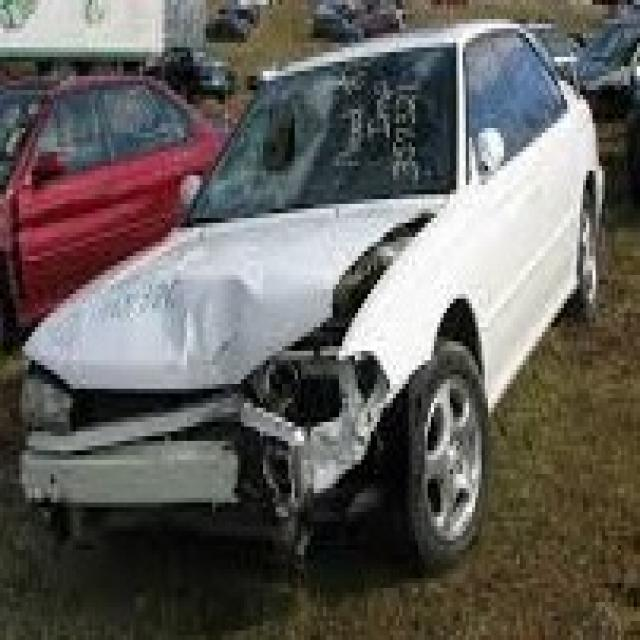moderate: (45, 228, 445, 542)
